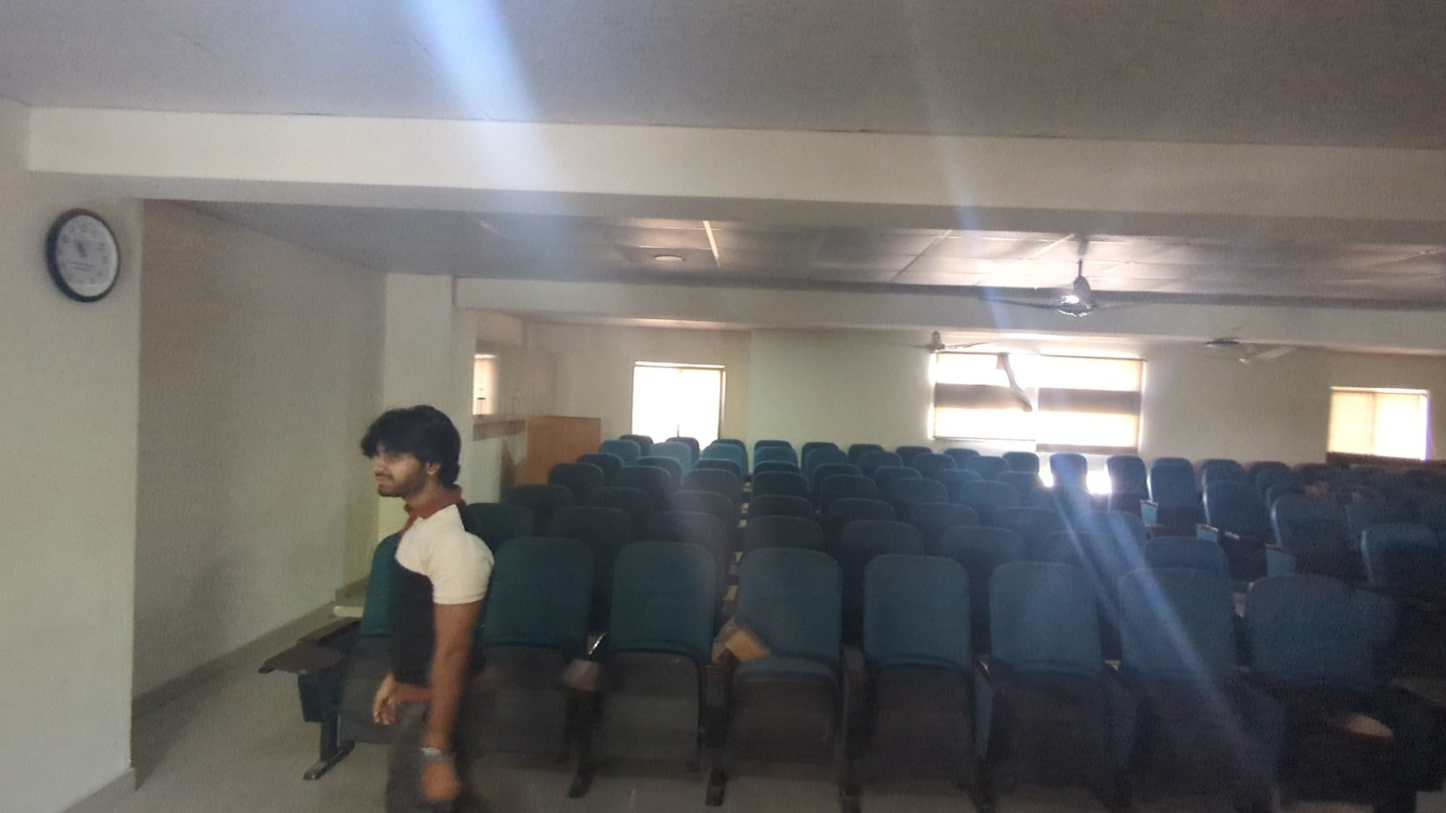stand: (309, 376, 518, 795)
